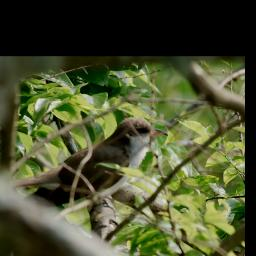Cuckoo: (7, 115, 167, 210)
